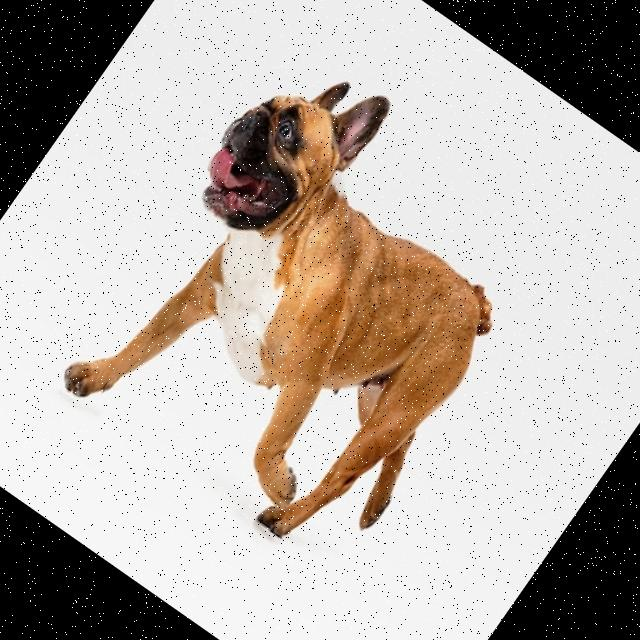Dog: (49, 31, 580, 582)
